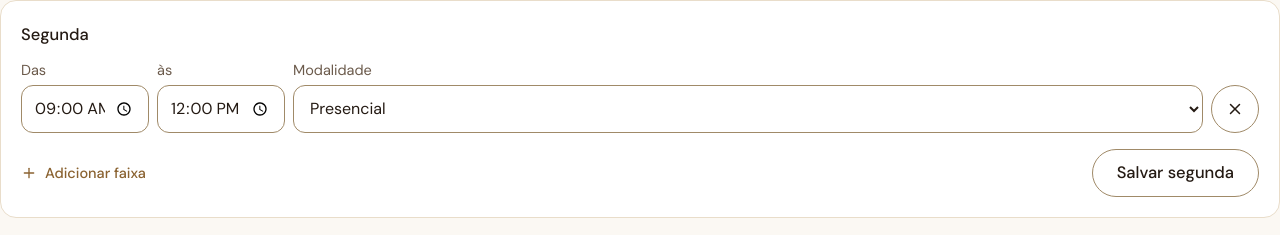
Test: <EditorDia> › remover a única faixa volta a mostrar "Sem atendimento."
The width and height of the screenshot is (1280, 235).
Click the button named "Remover faixa 09:00–12:00" at (1235, 109), box [1211,85,1259,133]
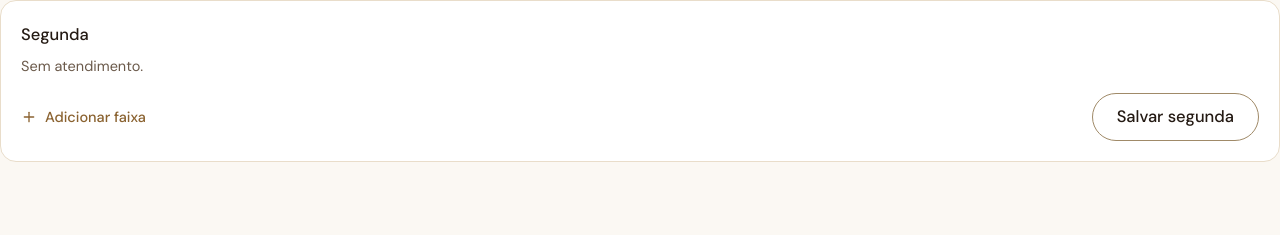
expect the text "Sem atendimento." is shown: met, box [21,57,143,75]
